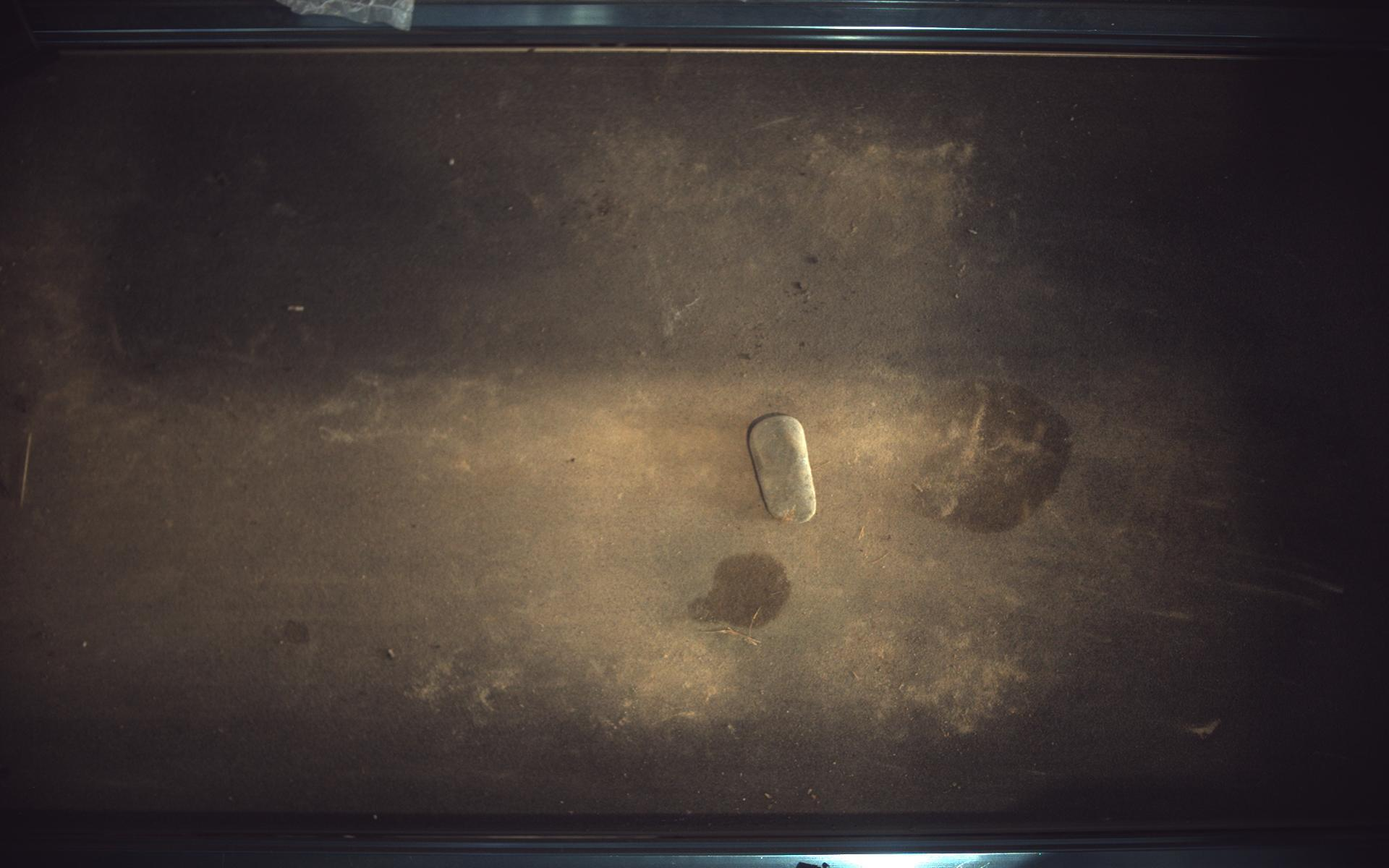stone: (749, 414, 818, 522)
